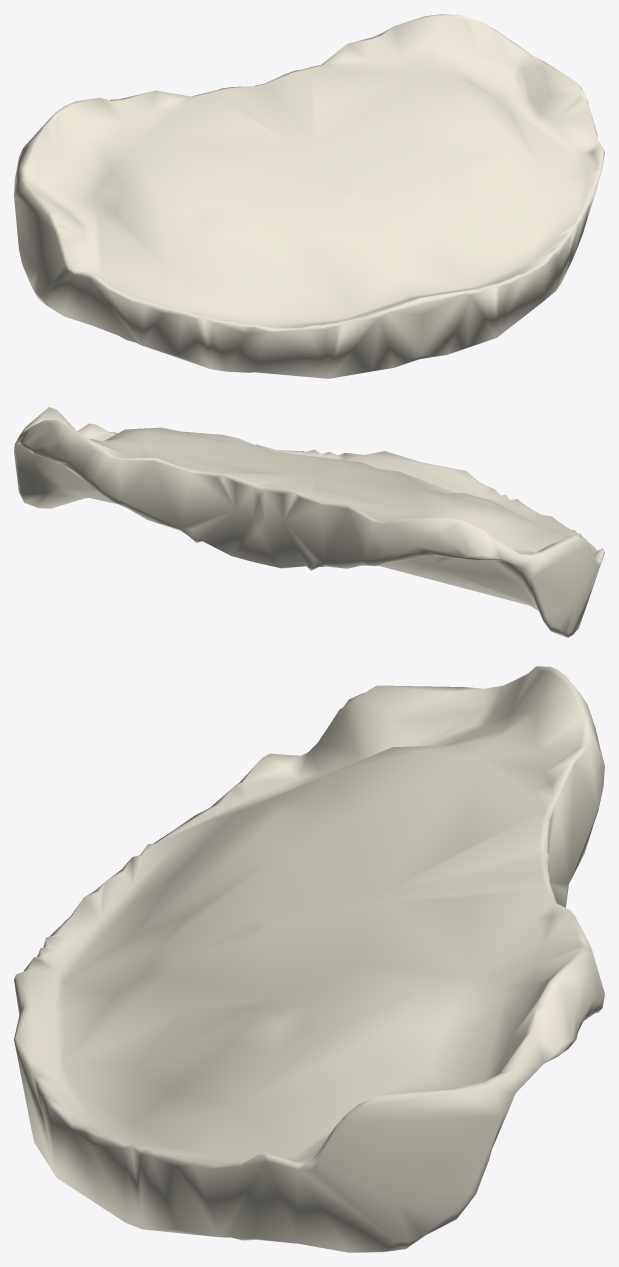
The picture shows the model from 3 angles, top to bottom: view 1: azimuth 30°, elevation 25°; view 2: azimuth 150°, elevation 25°; view 3: azimuth 270°, elevation 25°; orthographic projection. The views are drawn at different scales.
Visible parts, largest first — view 1: ZA_f08de41b7dae242d; view 2: ZA_f08de41b7dae242d; view 3: ZA_f08de41b7dae242d.
Part boxes in pixels (left/top/right/bottom): ZA_f08de41b7dae242d: left=14, top=14, right=604, bottom=378; ZA_f08de41b7dae242d: left=14, top=407, right=604, bottom=637; ZA_f08de41b7dae242d: left=14, top=666, right=604, bottom=1252.
Size of the model in its own units: 0.0336 by 0.0109 by 0.0201.
